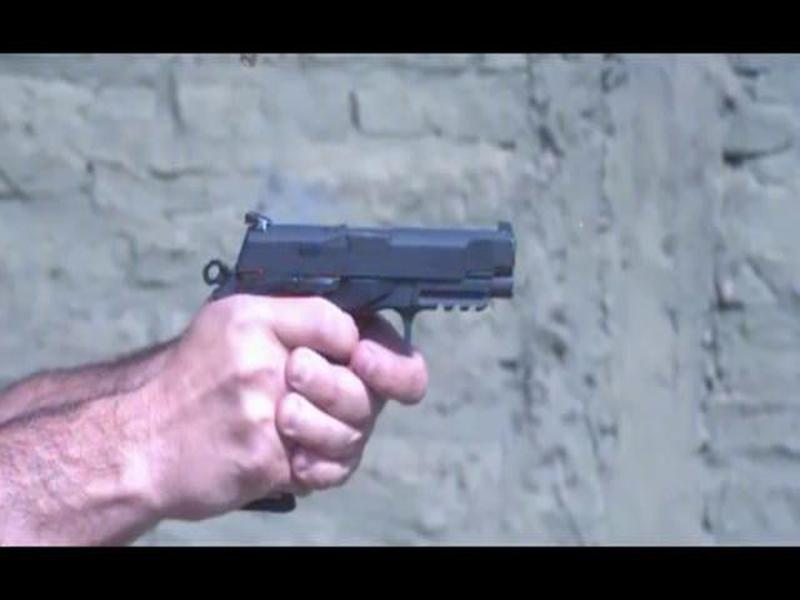Pistola: (177, 177, 556, 369)
